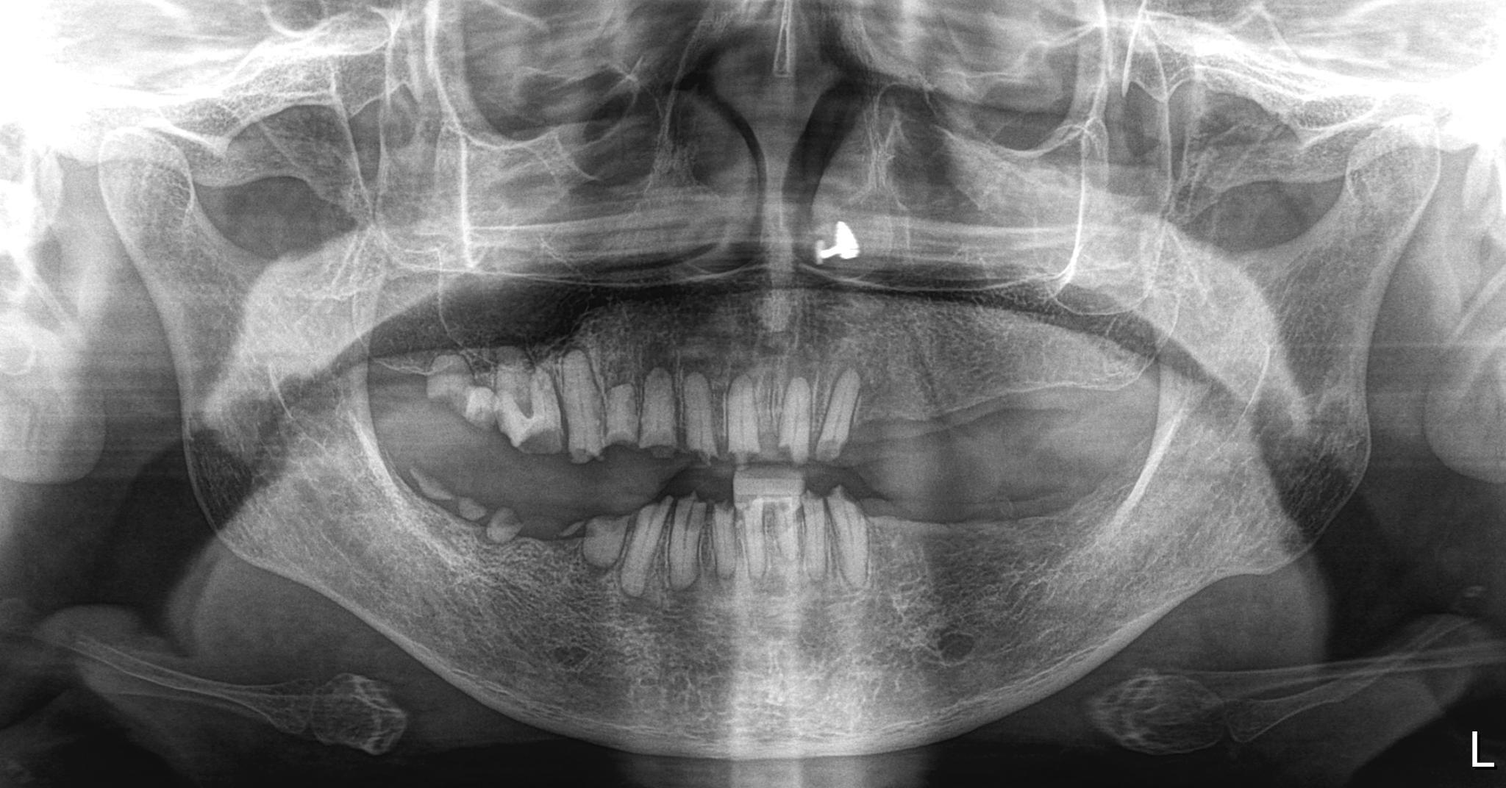Dental Caries: (421, 369, 479, 408), (502, 379, 548, 422)
Missing Tooth: (533, 481, 589, 569), (916, 498, 963, 596), (1063, 379, 1118, 462), (870, 496, 908, 611), (969, 504, 1017, 589), (1075, 496, 1121, 581), (1026, 505, 1070, 593), (998, 377, 1042, 464), (899, 377, 941, 467), (952, 375, 988, 464), (857, 379, 891, 462)
Retained Root: (408, 456, 451, 543), (485, 474, 526, 564), (452, 467, 482, 543)
